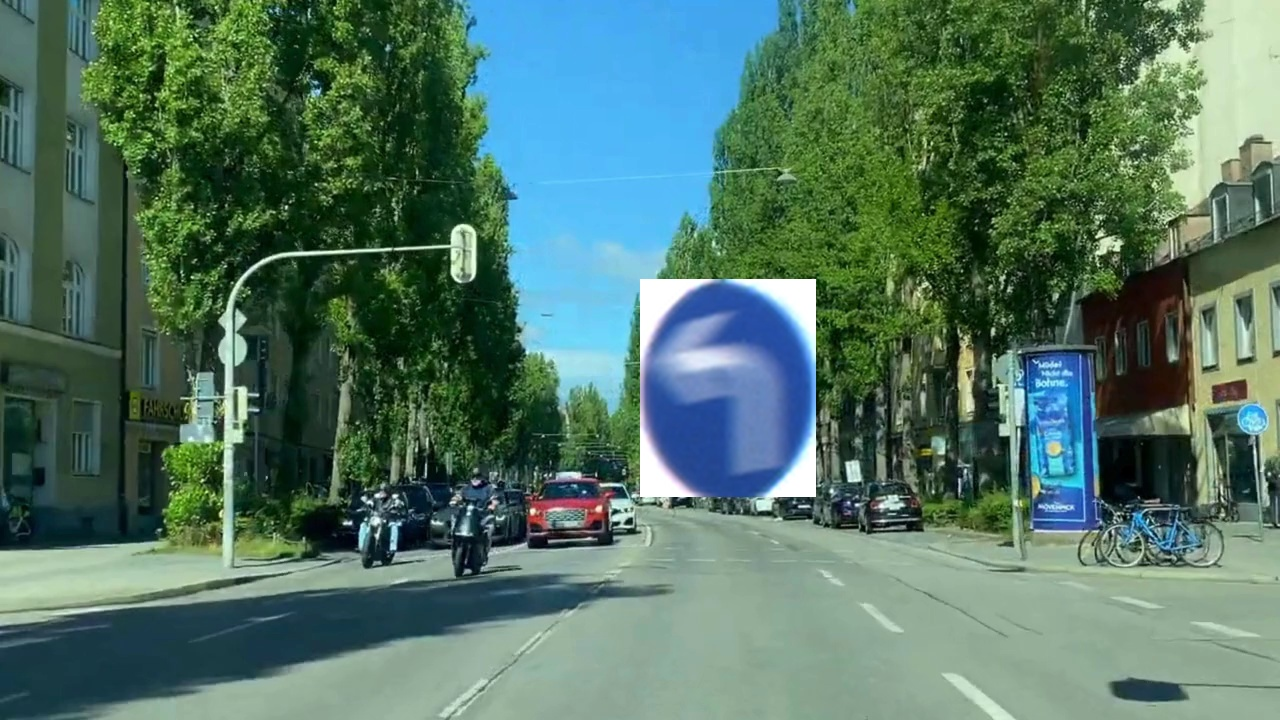Turn left: (640, 279, 816, 497)
